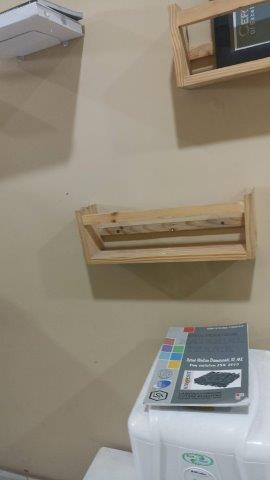kertas: (144, 328, 251, 406)
